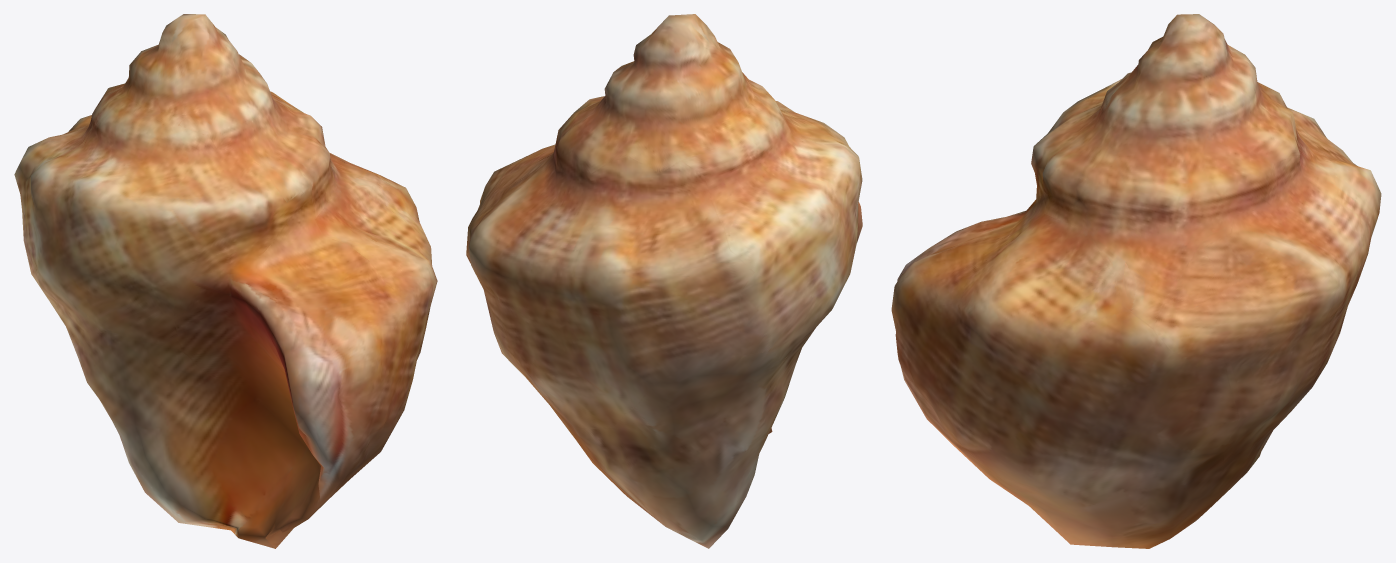
The model's file is rapan.glb.
3 views of the same model, side by side, from view 1: azimuth 30°, elevation 25°; view 2: azimuth 150°, elevation 25°; view 3: azimuth 270°, elevation 25° (orthographic). The views are drawn at different scales.
Parts seen in each view (by area): view 1: Object_2; view 2: Object_2; view 3: Object_2.
Boxes of the visible parts, x1,y1,x2,y2 form: Object_2: [14, 14, 437, 548]; Object_2: [466, 14, 862, 548]; Object_2: [891, 14, 1381, 548].
Size of the model in its own units: 0.3571 by 0.4903 by 0.417.
1 material, 1 textured.
